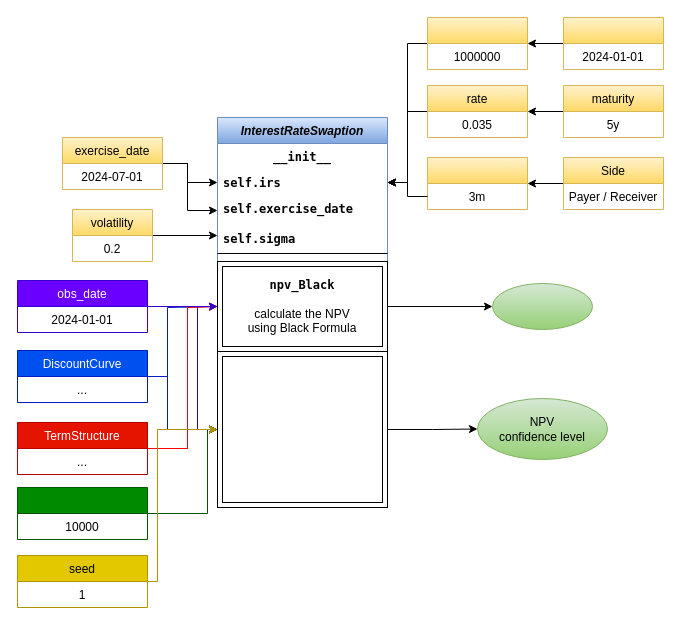
This 681x628 diagram has some shape labels left out. The shapes that lost their labels are listed below. From the top down, each one's box as (x1, y1, x2, y2) in pixels, then its label:
(426, 16, 528, 70): nominal
(562, 16, 664, 70): start_date
(426, 156, 528, 210): float freq.
(492, 282, 592, 330): NPV
(216, 350, 388, 508): npv_MC calculate the NPV and its confidence level using MC simulations
(16, 486, 148, 540): n_scenarios
